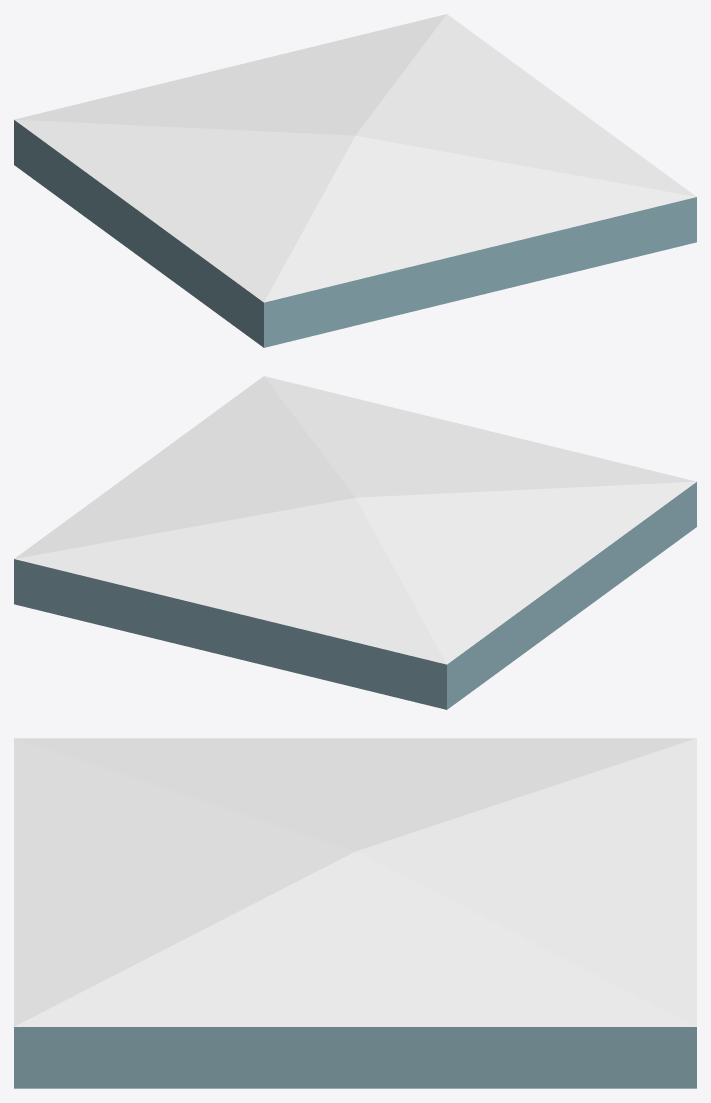
File: Terrain_Modular_Tiles_Snow_Ice_Lump_01.fbx
3 views of the same model, one above another, from view 1: azimuth 30°, elevation 25°; view 2: azimuth 150°, elevation 25°; view 3: azimuth 270°, elevation 25° (orthographic). The views are drawn at different scales.
Visible parts, largest first — view 1: Terrain_Modular_Tiles_Snow_Ice_Lump_01; view 2: Terrain_Modular_Tiles_Snow_Ice_Lump_01; view 3: Terrain_Modular_Tiles_Snow_Ice_Lump_01.
Part boxes in pixels (box(x1,y1,x2,y2)): Terrain_Modular_Tiles_Snow_Ice_Lump_01: box(14, 14, 696, 347); Terrain_Modular_Tiles_Snow_Ice_Lump_01: box(14, 376, 696, 709); Terrain_Modular_Tiles_Snow_Ice_Lump_01: box(14, 738, 696, 1088).
Bounding box in the file's own units: 118 × 17.72 × 118.
